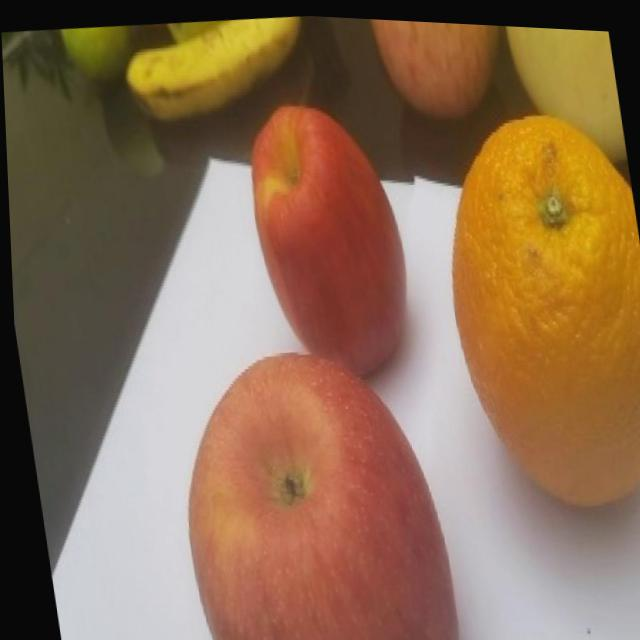Apple: (154, 327, 460, 640), (231, 91, 421, 388)
Banana: (116, 5, 315, 131)
Orange: (424, 98, 640, 517), (367, 15, 519, 125)
